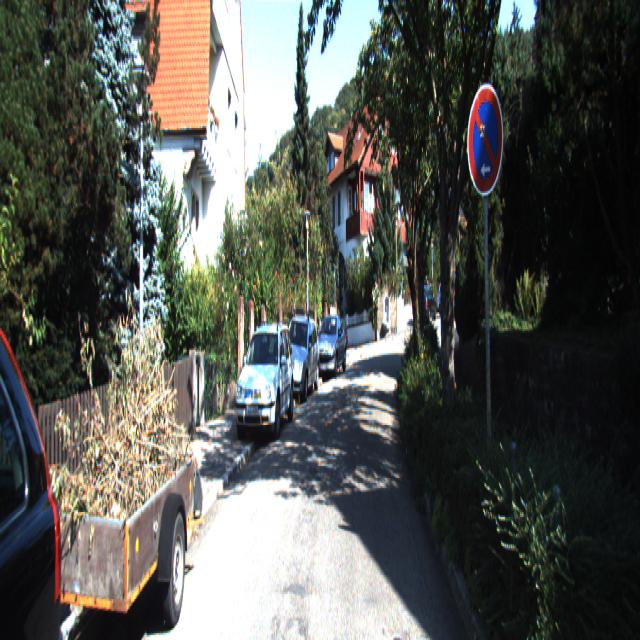Car: (27, 425, 207, 638), (0, 236, 82, 638), (233, 319, 295, 451), (279, 312, 320, 406), (315, 310, 346, 380), (415, 283, 436, 325)
